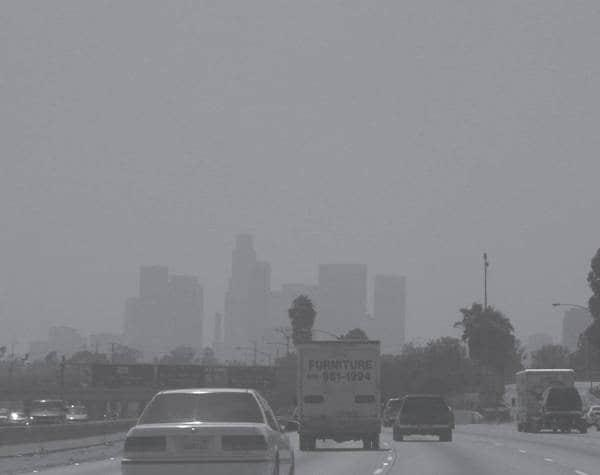bus: (291, 338, 383, 449), (508, 367, 577, 435)
car: (121, 386, 295, 475), (393, 394, 454, 444), (539, 385, 589, 434), (28, 398, 68, 432), (381, 395, 420, 428), (63, 401, 90, 429), (2, 410, 29, 433)
